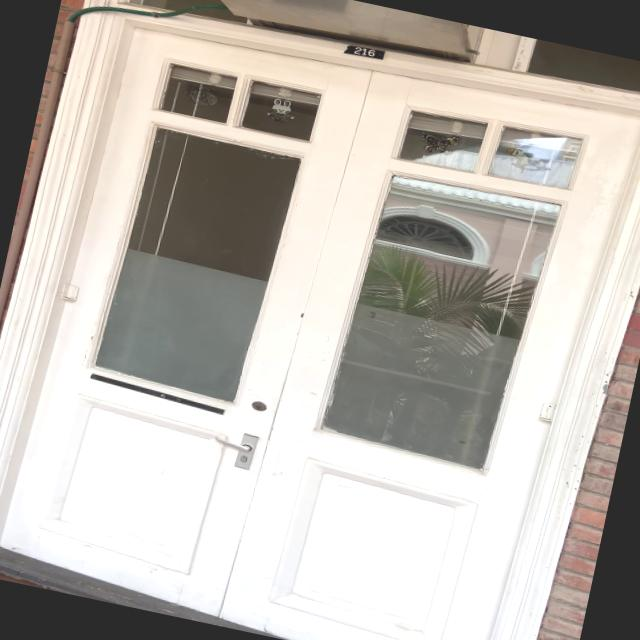room216: (337, 37, 390, 63)
